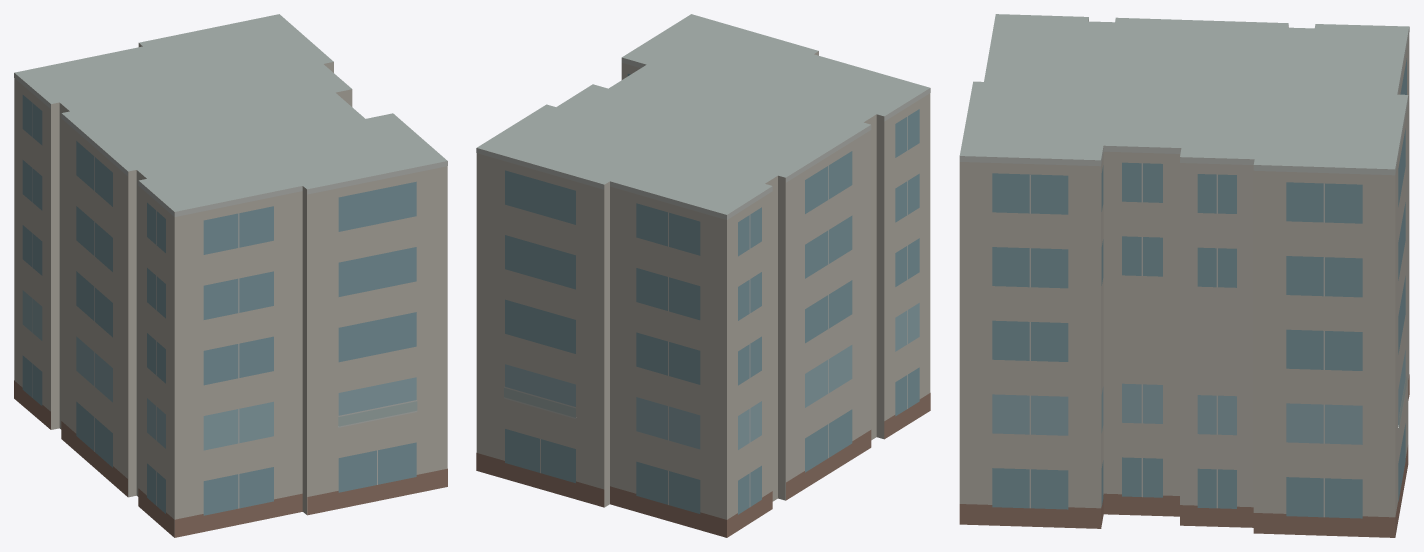
Rendered from survey-upis-32980402.glb.
3 views of the same model, side by side, from view 1: azimuth 30°, elevation 25°; view 2: azimuth 150°, elevation 25°; view 3: azimuth 270°, elevation 25° (orthographic). The views are drawn at different scales.
Visible parts, largest first — view 1: survey-upis-32980402.tmp; view 2: survey-upis-32980402.tmp; view 3: survey-upis-32980402.tmp.
Boxes of the visible parts, bbox=[...] form: survey-upis-32980402.tmp: bbox=[14, 14, 447, 537]; survey-upis-32980402.tmp: bbox=[476, 14, 930, 537]; survey-upis-32980402.tmp: bbox=[959, 14, 1409, 537].
Size of the model in its own units: 13.8 by 15.25 by 16.88.
